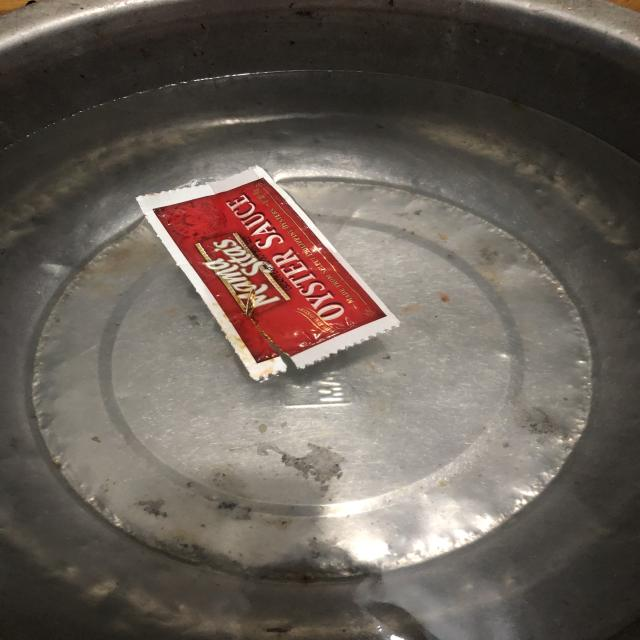Plastic Wrapper: (136, 166, 399, 381)
